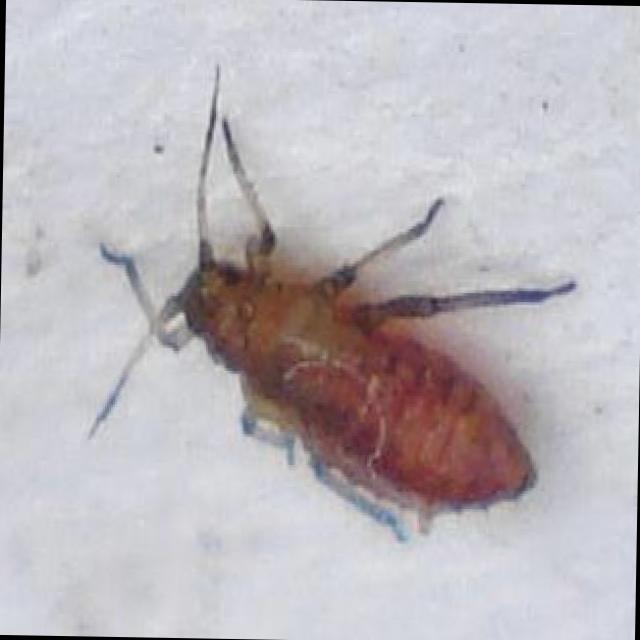Aphid: (80, 75, 580, 543)
